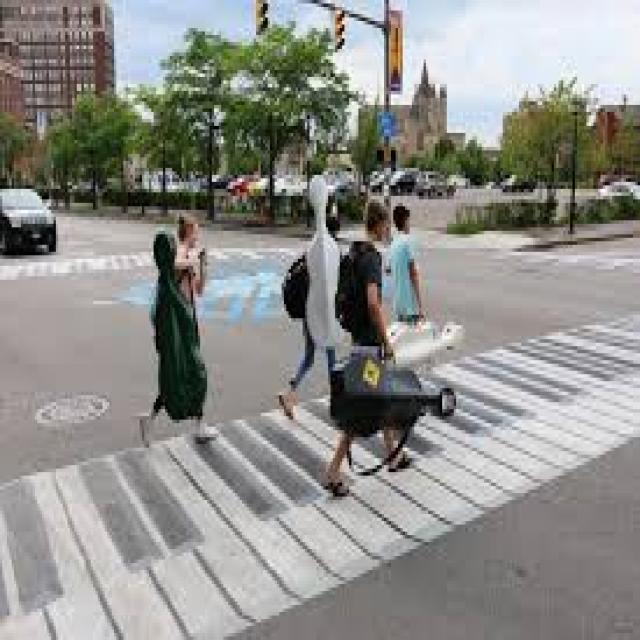Crosswalk: (1, 310, 639, 640)
